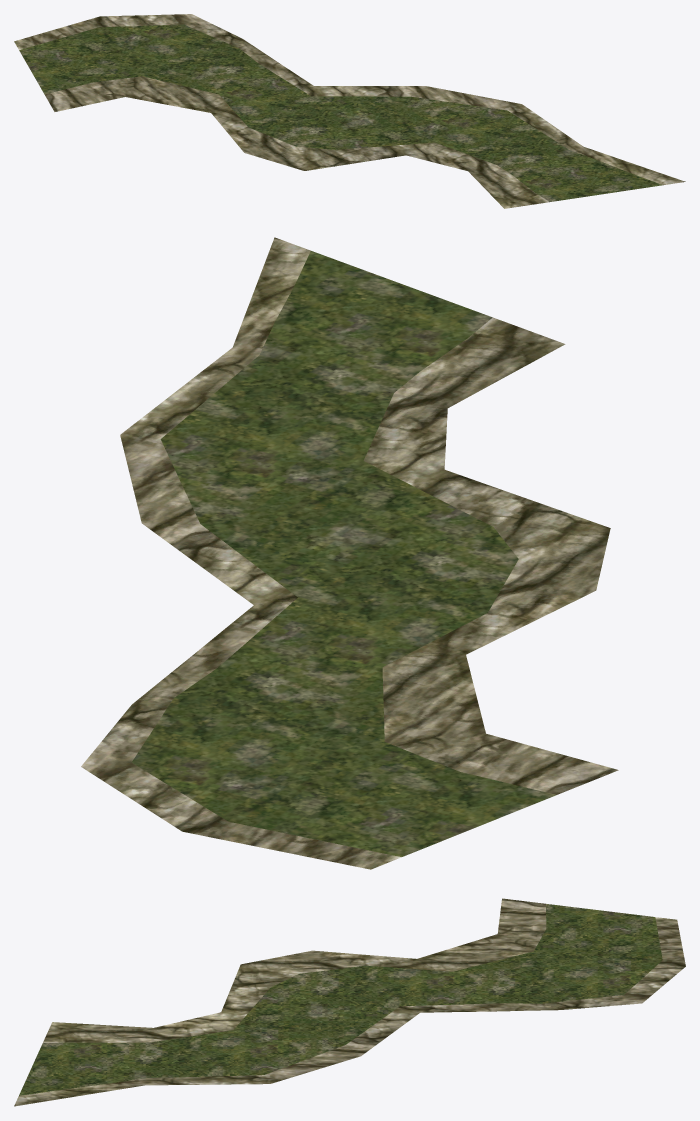
Rendered from CB_NEWPLAYSURFACE_CB_PLAYSURFACE157.fbx.
3 views of the same model, one above another, from view 1: azimuth 30°, elevation 25°; view 2: azimuth 150°, elevation 25°; view 3: azimuth 270°, elevation 25° (orthographic). The views are drawn at different scales.
Visible parts, largest first — view 1: CB_NEWPLAYSURFACE_CB_PLAYSURFACE157; view 2: CB_NEWPLAYSURFACE_CB_PLAYSURFACE157; view 3: CB_NEWPLAYSURFACE_CB_PLAYSURFACE157.
Part boxes in pixels (left/top/right/bottom): CB_NEWPLAYSURFACE_CB_PLAYSURFACE157: left=14, top=14, right=685, bottom=208; CB_NEWPLAYSURFACE_CB_PLAYSURFACE157: left=81, top=237, right=618, bottom=869; CB_NEWPLAYSURFACE_CB_PLAYSURFACE157: left=14, top=898, right=685, bottom=1106.
Bounding box in the file's own units: 231666 × 192 × 315617.
Materials: 2 (2 with a texture image).
